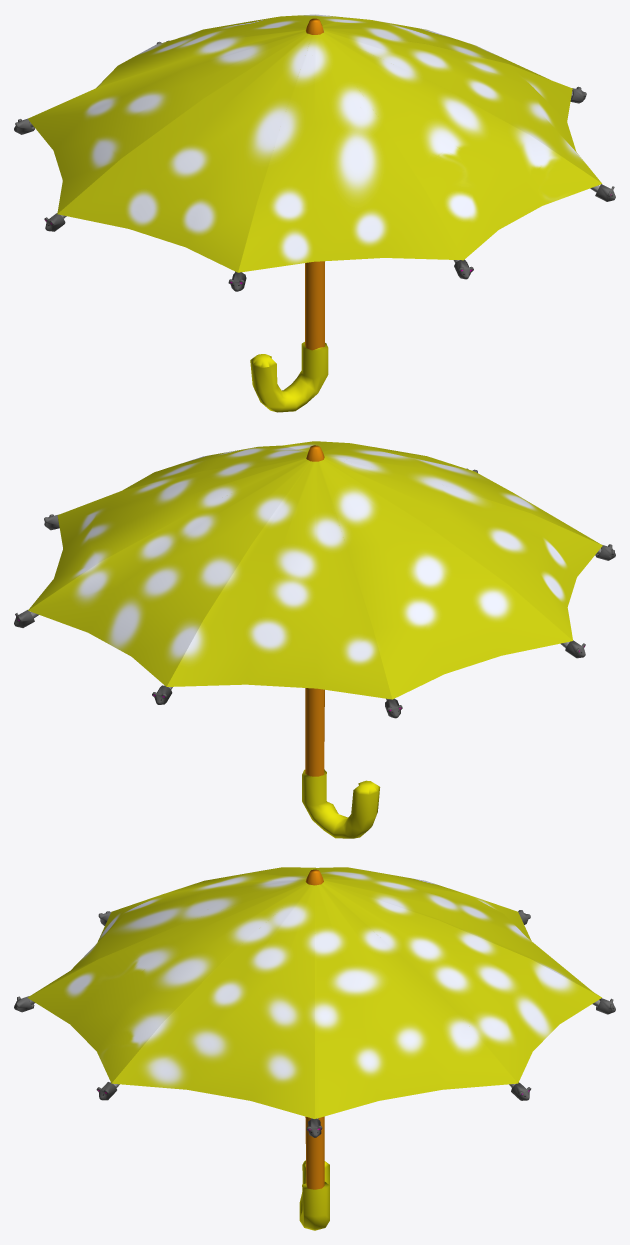
Rendered from Cheese-Umbrella-(Surreal).glb.
The picture shows the model from 3 angles, top to bottom: view 1: azimuth 30°, elevation 25°; view 2: azimuth 150°, elevation 25°; view 3: azimuth 270°, elevation 25°; orthographic projection. The views are drawn at different scales.
Visible parts, largest first — view 1: 布（チーズ柄）, 柱; view 2: 布（チーズ柄）, 柱; view 3: 布（チーズ柄）, 柱.
Boxes of the visible parts, bbox=[...] form: 布（チーズ柄）: bbox=[28, 14, 601, 272]; 柱: bbox=[250, 18, 328, 412]; 布（チーズ柄）: bbox=[28, 441, 602, 699]; 柱: bbox=[302, 445, 380, 838]; 布（チーズ柄）: bbox=[27, 867, 601, 1118]; 柱: bbox=[299, 869, 329, 1230].
Size of the model in its own units: 2.09 by 1.42 by 2.09.
Materials: 21 (9 with a texture image).
